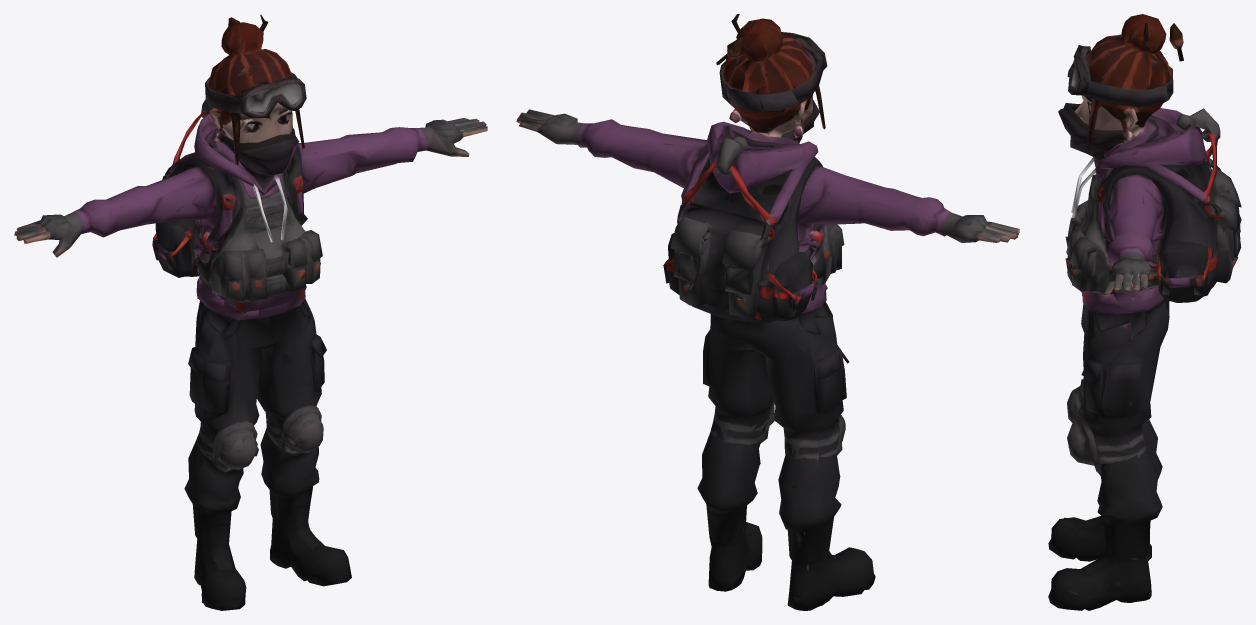
Rendered from Lynx.fbx.
3 renders of one model, left to right at view 1: azimuth 30°, elevation 25°; view 2: azimuth 150°, elevation 25°; view 3: azimuth 270°, elevation 25°, orthographic. The views are drawn at different scales.
Visible parts, largest first — view 1: Lynx; view 2: Lynx; view 3: Lynx.
Part boxes in pixels (x1,y1,x2,y2): Lynx: [14, 14, 487, 610]; Lynx: [516, 14, 1019, 610]; Lynx: [1048, 14, 1241, 610].
Bounding box in the file's own units: 1.61 × 1.8 × 0.56.
1 material, 1 textured.
